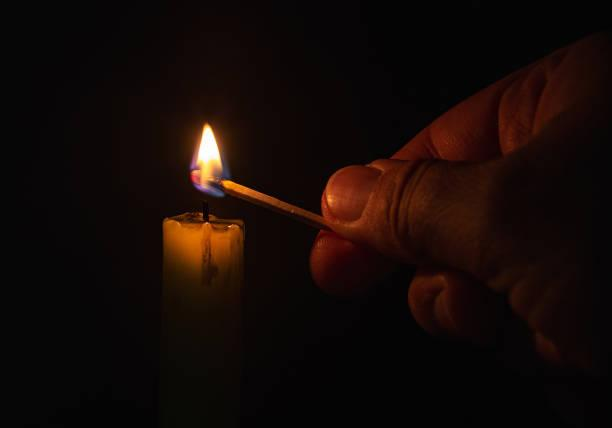Fire: (192, 120, 226, 199)
